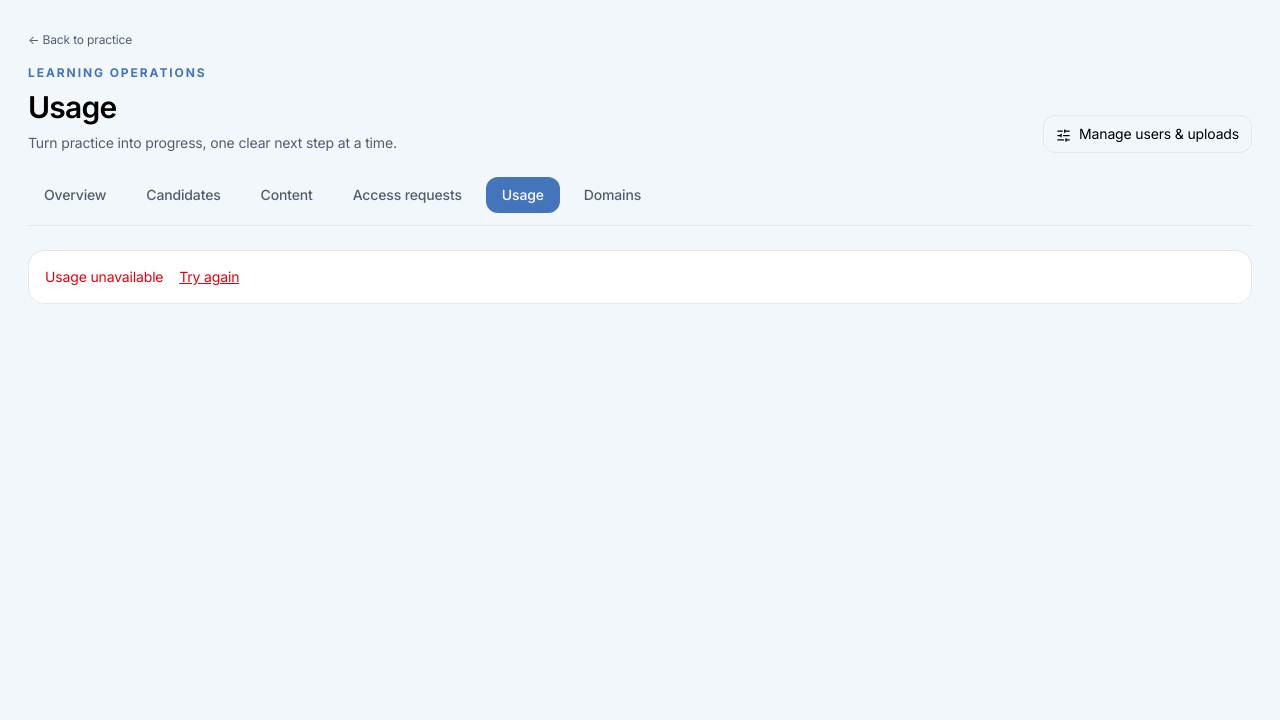
loads a direct usage link and recovers from a failed request
Check: the message shows "Usage unavailable", box [45, 268, 163, 285]
What coordinates should you click on to do the following:
click the button "Try again"
I would click on:
 (209, 277)
Its box is [179, 267, 239, 287].
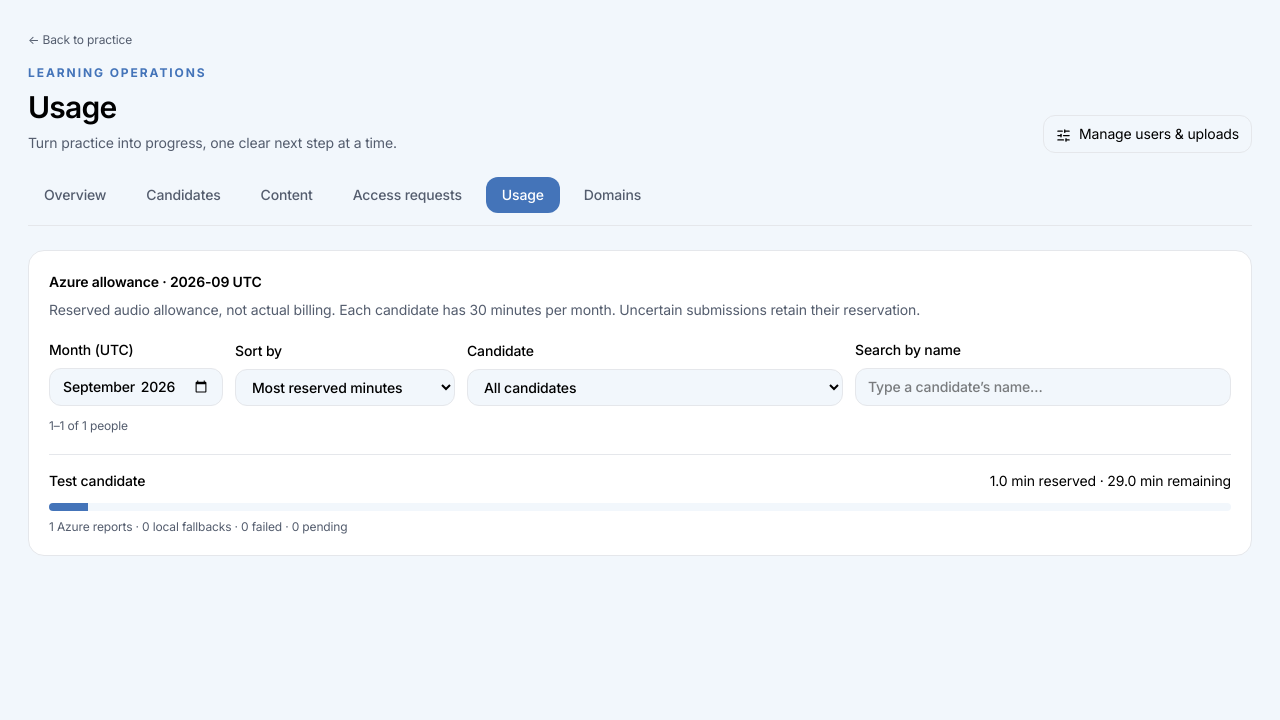
Check: the heading "Azure allowance · 2026-09 UTC" is shown, box [49, 273, 262, 290]
